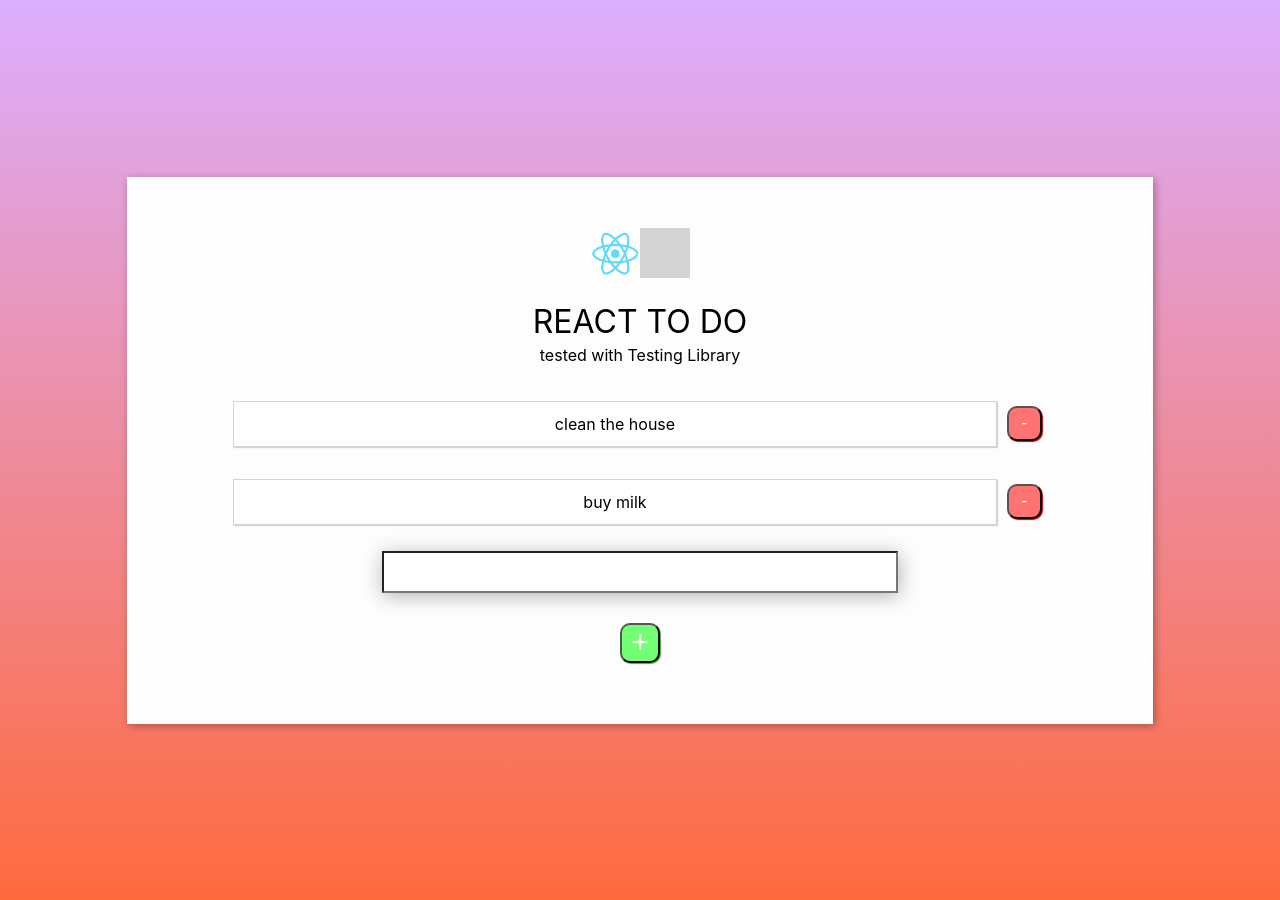
Test: <ToDo/> › Adding items › When the add button is pressed, if the input field has text, it creates a new todo item
The width and height of the screenshot is (1280, 900).
Type "Create more tests" into the field with test id "todo-input".
click(640, 572); type("Create more tests")  # box [382,550,898,592]
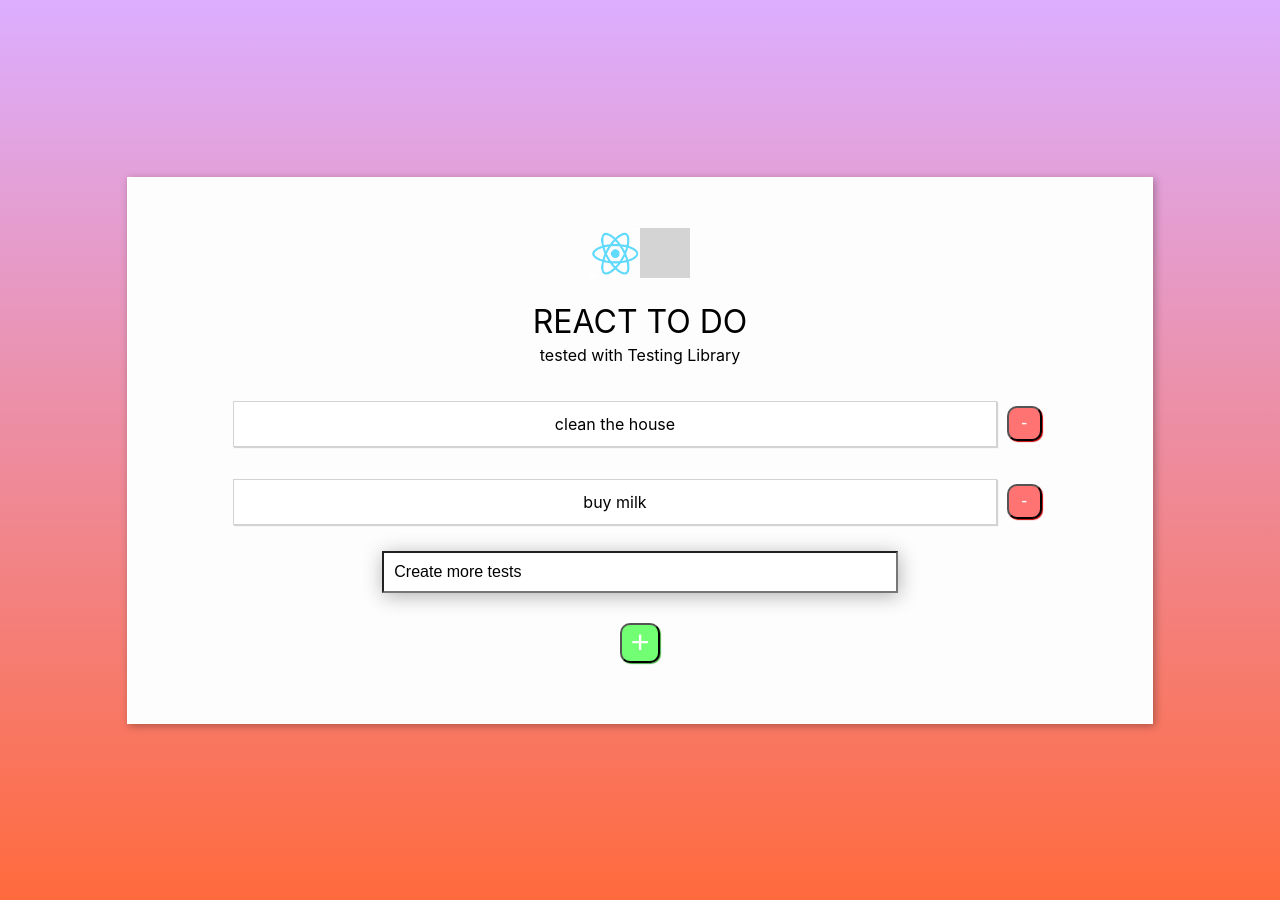
Click the button with test id "add".
click(640, 642)  # box [620,622,660,662]
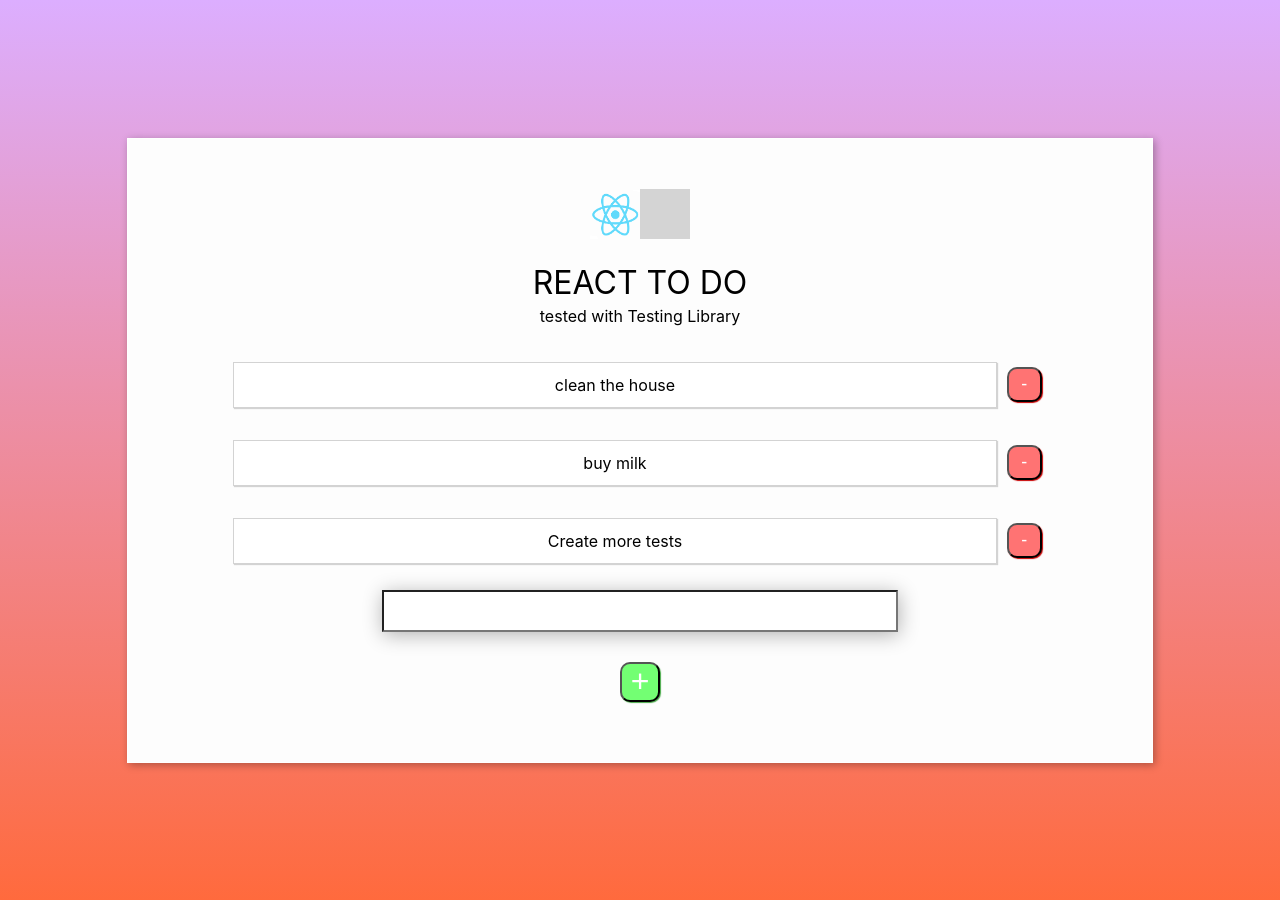
expect the text "Create more tests" is shown: met, box [233,518,997,564]
